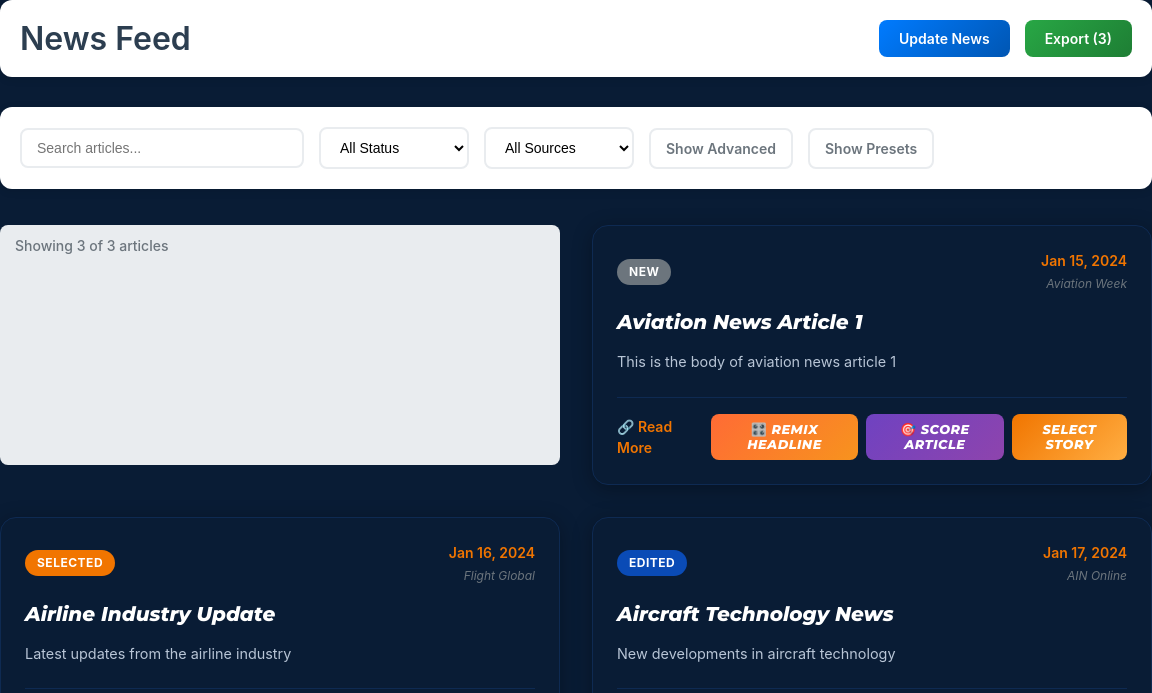
Feed Component › Filter Presets › shows presets when toggle is clicked
Expected: the heading "Aviation News Article 1" is shown, [617,310,862,334]
Step 1. Click the button "Show Presets" → x=871, y=148, box [808,128,934,168]
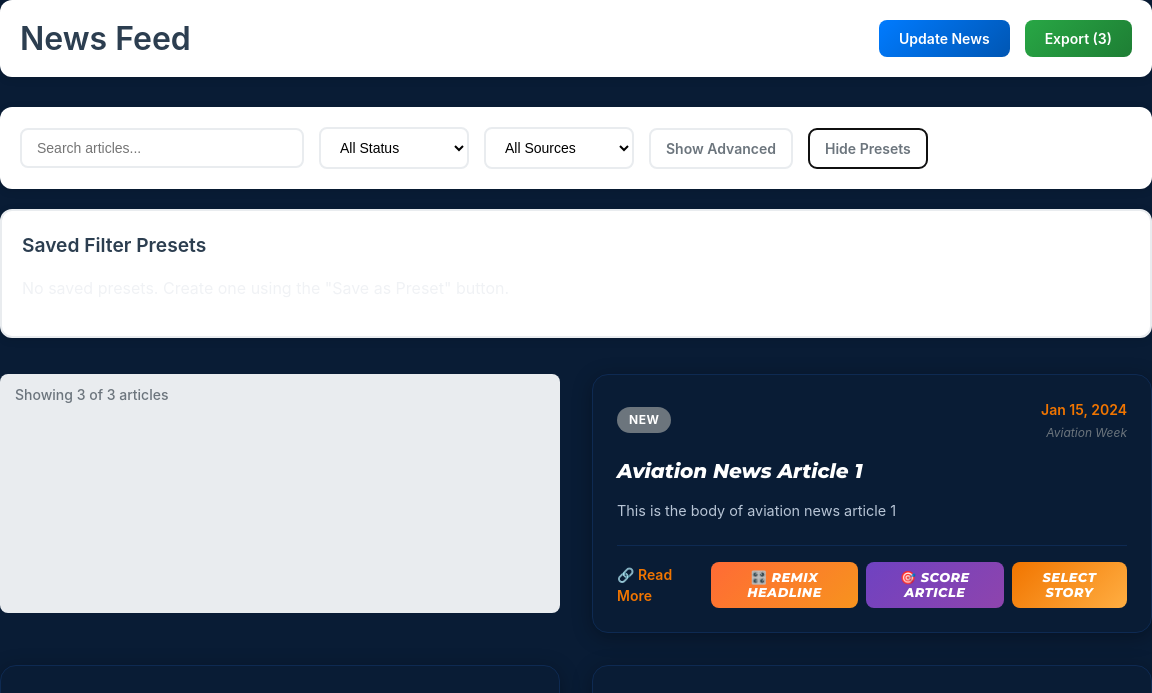
Result: the heading "Saved Filter Presets" is shown at [22,233,206,257]
